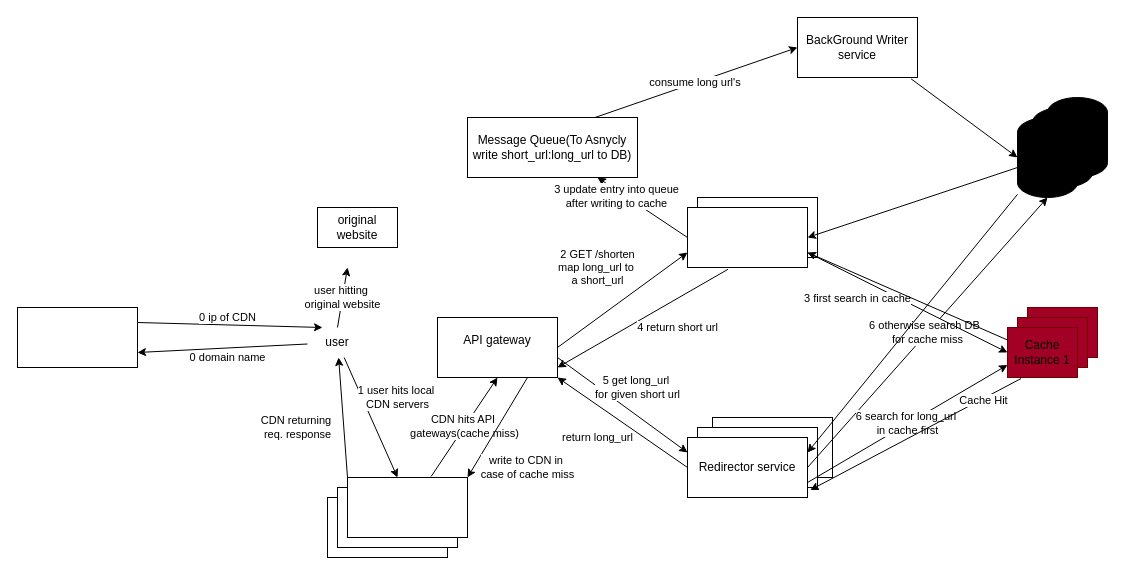
The diagram is 1125 pixels wide and 575 high, and some of its shapes have lost their labels. Here are the shapes that lost their labels. From the top down, the centre of each, then its label:
(747,237): Shorten service
(77,337): DNS provider
(407,507): Local Server Cache/CDN
